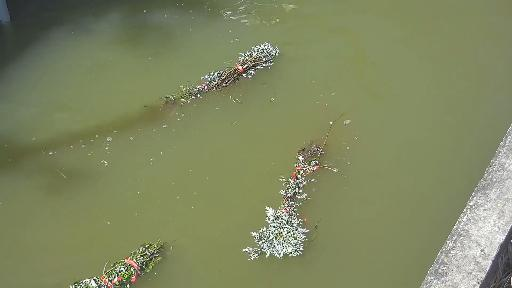twig: (240, 109, 364, 261), (148, 34, 287, 116), (60, 231, 176, 288)
